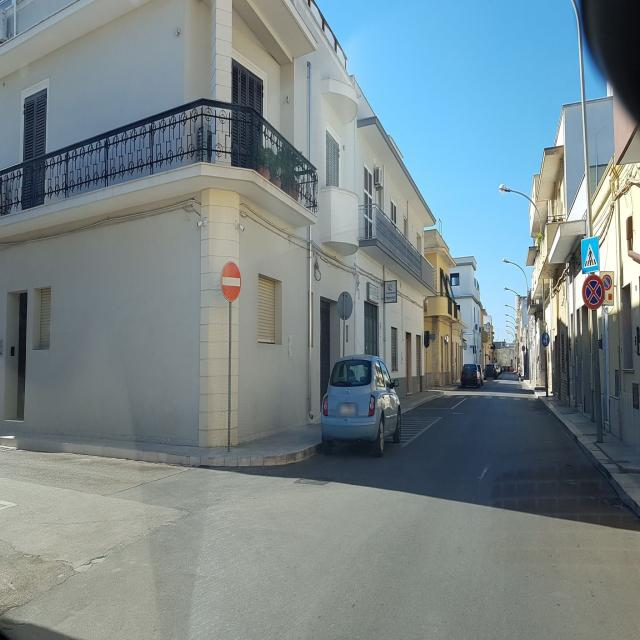forb_stopping: (601, 274, 612, 291)
